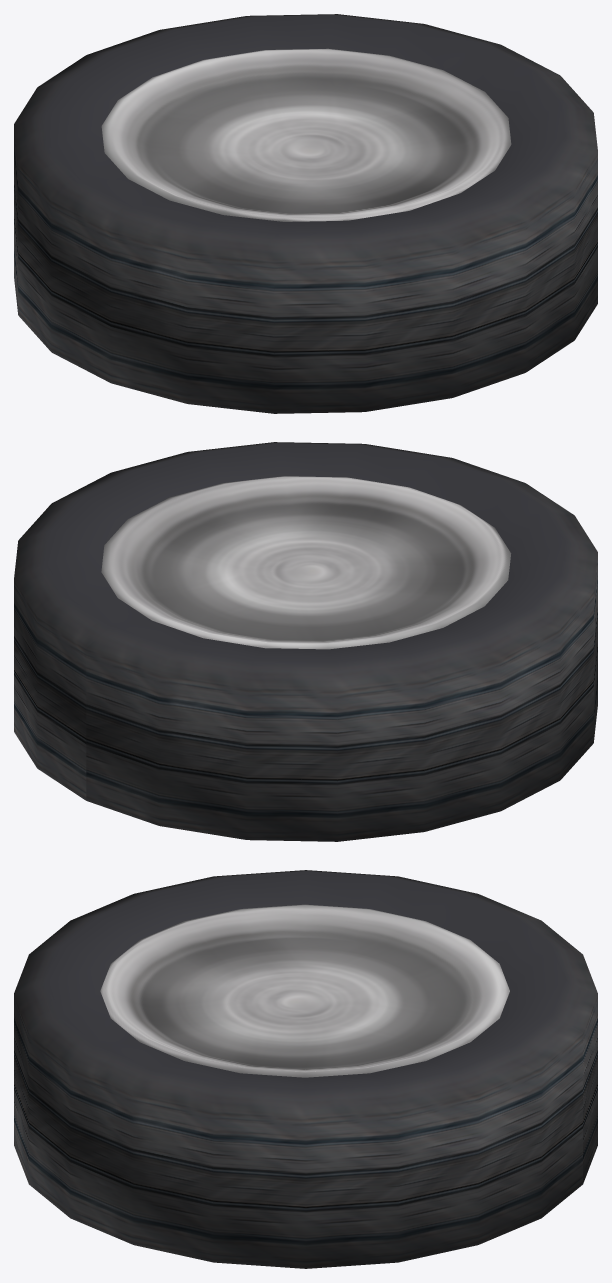
File: blurred_tire.obj
3 renders of one model, top to bottom at view 1: azimuth 30°, elevation 25°; view 2: azimuth 150°, elevation 25°; view 3: azimuth 270°, elevation 25°, orthographic.
Visible parts, largest first — view 1: Tread, rim, tread_side; view 2: Tread, rim, tread_side; view 3: Tread, rim, tread_side.
Part boxes in pixels (x1,y1,x2,y2): Tread: (14, 14, 597, 413); rim: (101, 48, 511, 221); tread_side: (47, 15, 564, 233); Tread: (14, 442, 597, 841); rim: (101, 476, 511, 649); tread_side: (47, 443, 564, 661); Tread: (14, 870, 597, 1268); rim: (100, 904, 509, 1077); tread_side: (48, 871, 564, 1089).
Size of the model in its own units: 0.582 by 0.1948 by 0.582.
4 materials, 3 textured.
